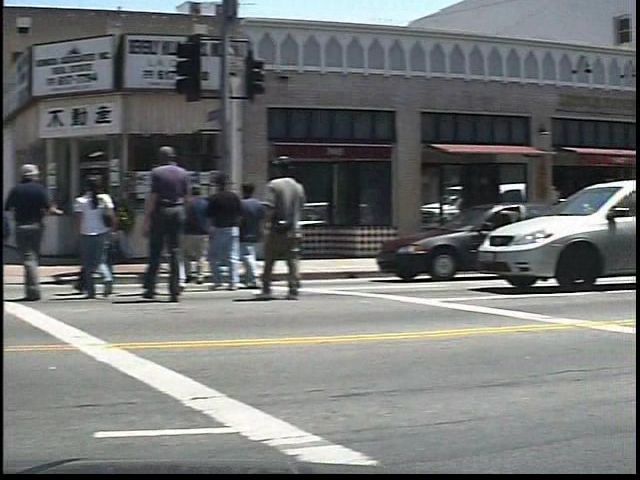person: (154, 149, 224, 311), (17, 158, 77, 312), (87, 178, 149, 310)
